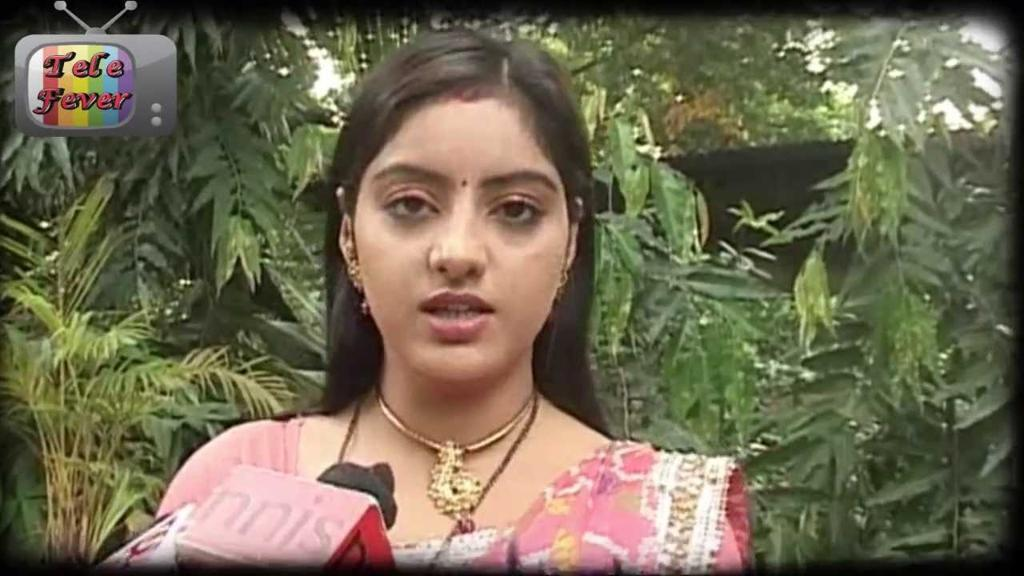face: (368, 104, 572, 366)
